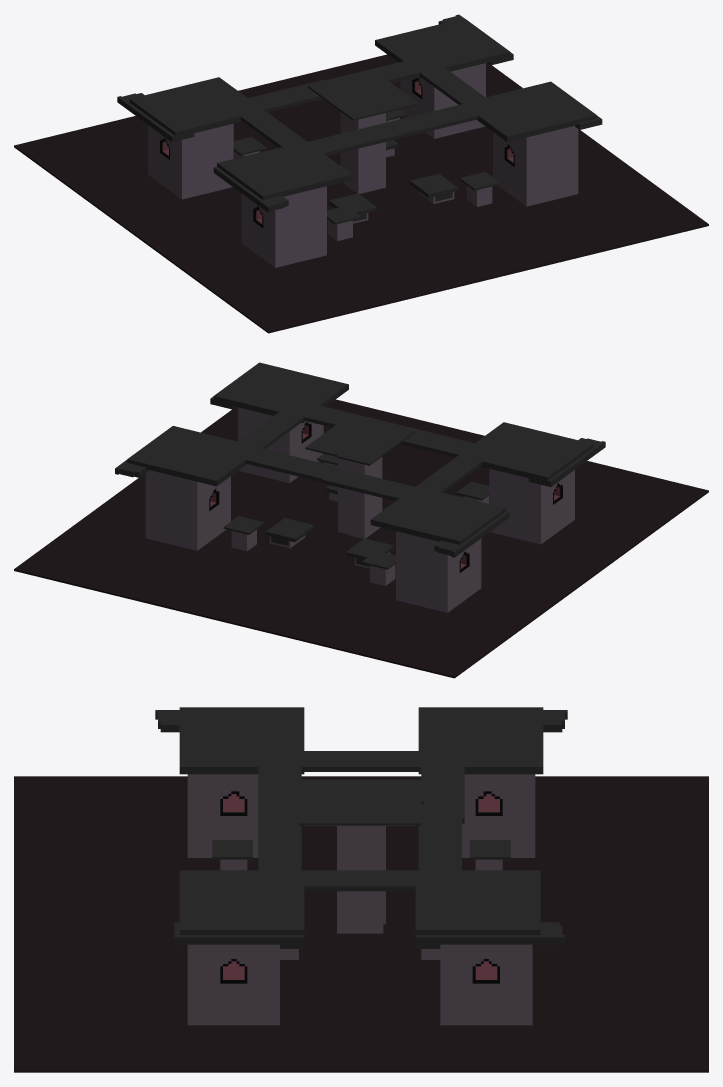
File: ddMapa_Puente.obj
3 views of the same model, one above another, from view 1: azimuth 30°, elevation 25°; view 2: azimuth 150°, elevation 25°; view 3: azimuth 270°, elevation 25° (orthographic). The views are drawn at different scales.
Bounding box in the file's own units: 25.6 × 5.1 × 25.6.
Materials: 1 (1 with a texture image).
